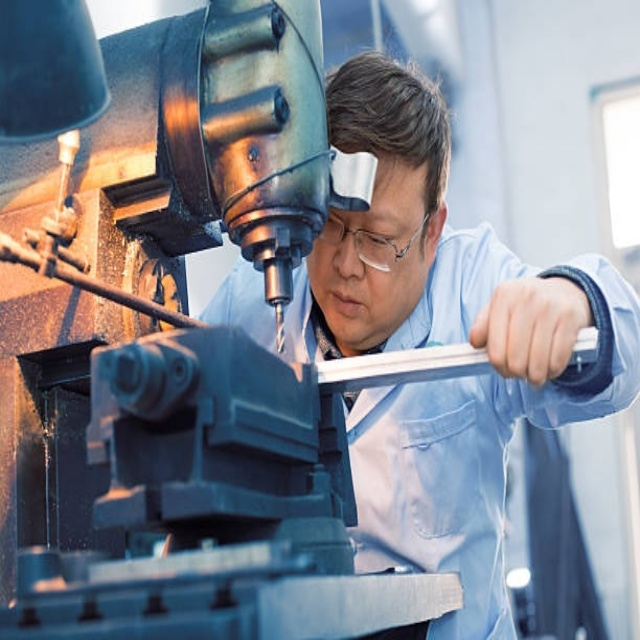Gafas: (323, 203, 431, 272)
Sin_guantes: (464, 272, 595, 387)
Sin_mascara: (322, 282, 371, 342)
